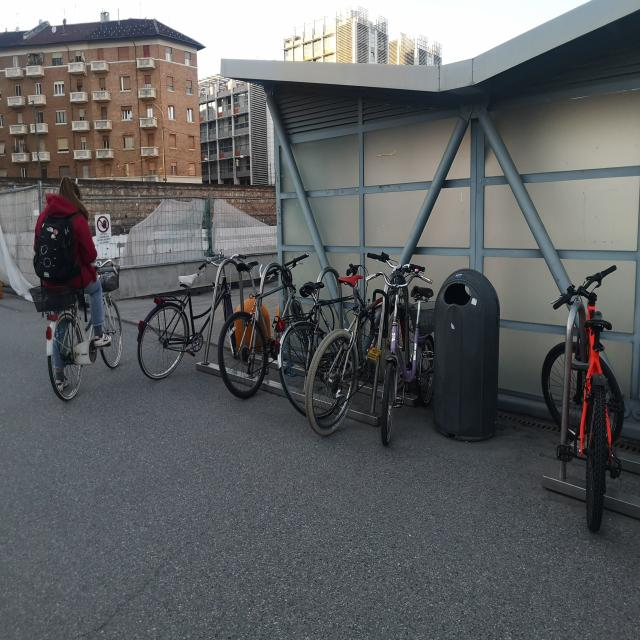Bicycle: (548, 252, 636, 548), (135, 234, 242, 397), (37, 249, 138, 403), (309, 268, 387, 436), (214, 241, 297, 395), (386, 266, 441, 450), (288, 269, 337, 403)
